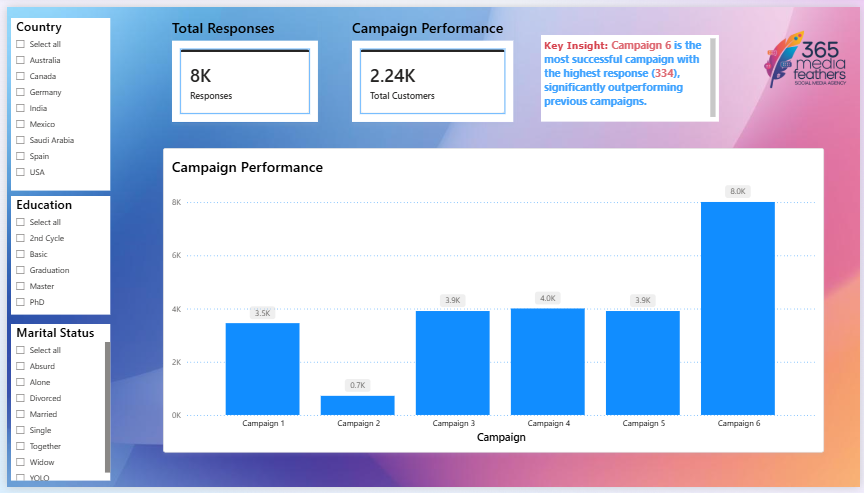

Layout of this report page (visuals, bound fields, positions):
{"tool":"powerbi","page":{"name":"Campaign Performance","canvas":[1280,720],"ordinal":0},"visuals":[{"type":"cardVisual","title":"Campaign Performance","fields":{"Data":["Count(365 Media Feathers Inc.ID)"]},"box":[517.7,15.9,242.9,156.6],"z":0},{"type":"cardVisual","title":"Total Responses","fields":{"Data":["Sum(365 Media Feathers Inc.Responses)"]},"box":[248.2,15.9,219,156.6],"z":1000},{"type":"slicer","fields":{"Values":["365 Media Feathers Inc.Country"]},"box":[6.6,15.9,148.7,258.8],"z":2000},{"type":"slicer","fields":{"Values":["365 Media Feathers Inc.Education"]},"box":[6.6,284.1,148.7,177.9],"z":3000},{"type":"slicer","fields":{"Values":["365 Media Feathers Inc.Marital_Status"]},"box":[6.6,475.2,148.7,234.9],"z":4000},{"type":"clusteredColumnChart","title":"Campaign Performance","fields":{"Y":["Sum(365 Media Feathers Inc.Responses)"],"Category":["365 Media Feathers Inc.Campaign"]},"box":[233.6,211,991.5,456.6],"z":5000},{"type":"textbox","box":[801.7,42.5,266.8,130.1],"z":6000},{"type":"image","box":[1115,0,164.6,156.6],"z":7000}]}

Visuals, with their boxes in screenshot pixels (x1, y1, x2, y2), scaled from the page's 1280x720 canvas onto the 864x493 screenshot:
"Campaign Performance" cardVisual: bbox(349, 11, 513, 118)
"Total Responses" cardVisual: bbox(168, 11, 315, 118)
slicer - 365 Media Feathers Inc.Country: bbox(4, 11, 105, 188)
slicer - 365 Media Feathers Inc.Education: bbox(4, 195, 105, 316)
slicer - 365 Media Feathers Inc.Marital_Status: bbox(4, 325, 105, 486)
"Campaign Performance" clusteredColumnChart: bbox(158, 144, 827, 457)
textbox: bbox(541, 29, 721, 118)
image: bbox(753, 0, 863, 107)
